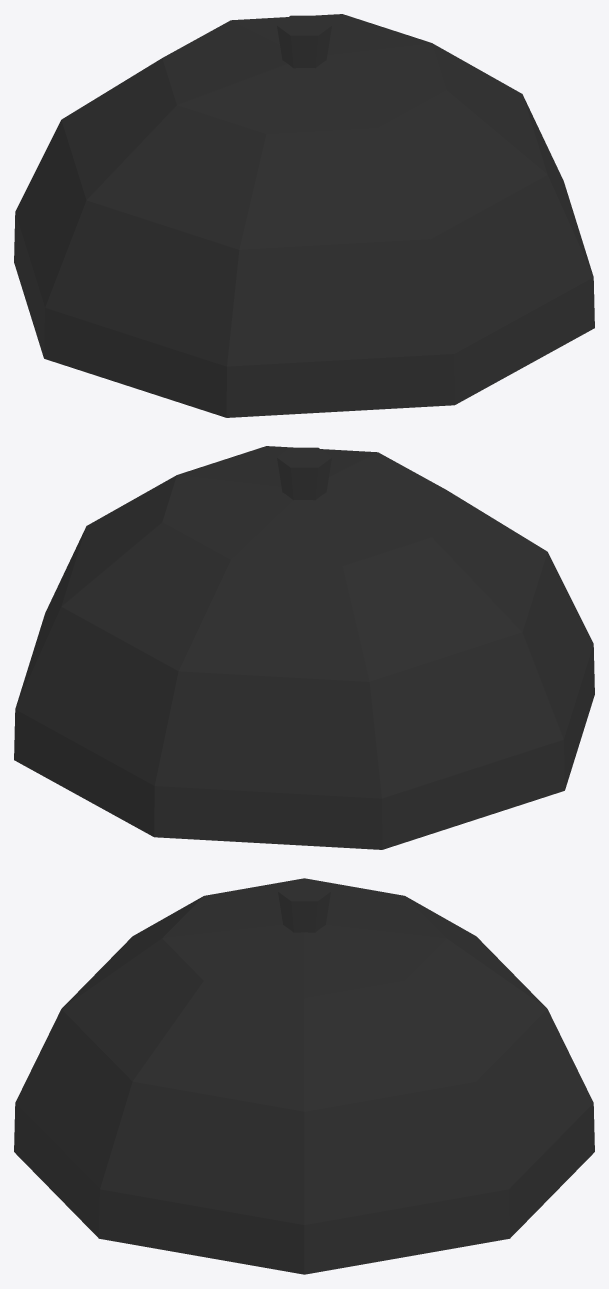
The model's file is grill-round-top.glb.
3 views of the same model, one above another, from view 1: azimuth 30°, elevation 25°; view 2: azimuth 150°, elevation 25°; view 3: azimuth 270°, elevation 25° (orthographic). The views are drawn at different scales.
Parts seen in each view (by area): view 1: grill-round-top; view 2: grill-round-top; view 3: grill-round-top.
Boxes of the visible parts, x1=… form: grill-round-top: x1=14, y1=14, x2=594, y2=417; grill-round-top: x1=14, y1=446, x2=594, y2=849; grill-round-top: x1=14, y1=878, x2=594, y2=1274.
Size of the model in its own units: 0.6026 by 0.298 by 0.6026.
1 material, 1 textured.
